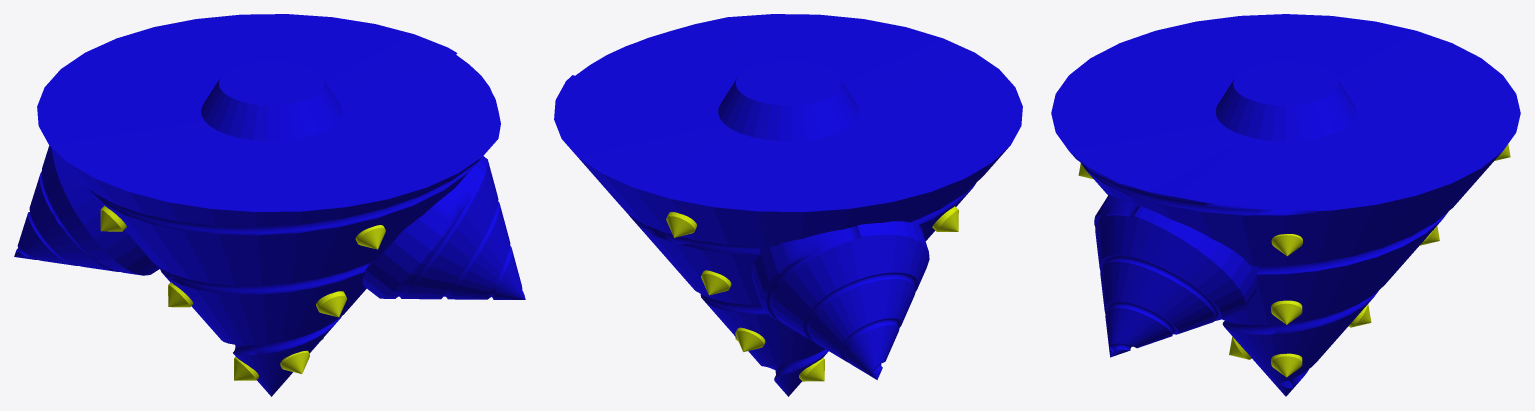
Rendered from big drill head lvl 2.fbx.
3 renders of one model, left to right at view 1: azimuth 30°, elevation 25°; view 2: azimuth 150°, elevation 25°; view 3: azimuth 270°, elevation 25°, orthographic.
Visible parts, largest first — view 1: drill head; view 2: drill head; view 3: drill head.
Boxes of the visible parts, bbox=[...] form: drill head: bbox=[14, 14, 525, 396]; drill head: bbox=[554, 14, 1022, 396]; drill head: bbox=[1051, 14, 1520, 396].
Bounding box in the file's own units: 298 × 221 × 300.
